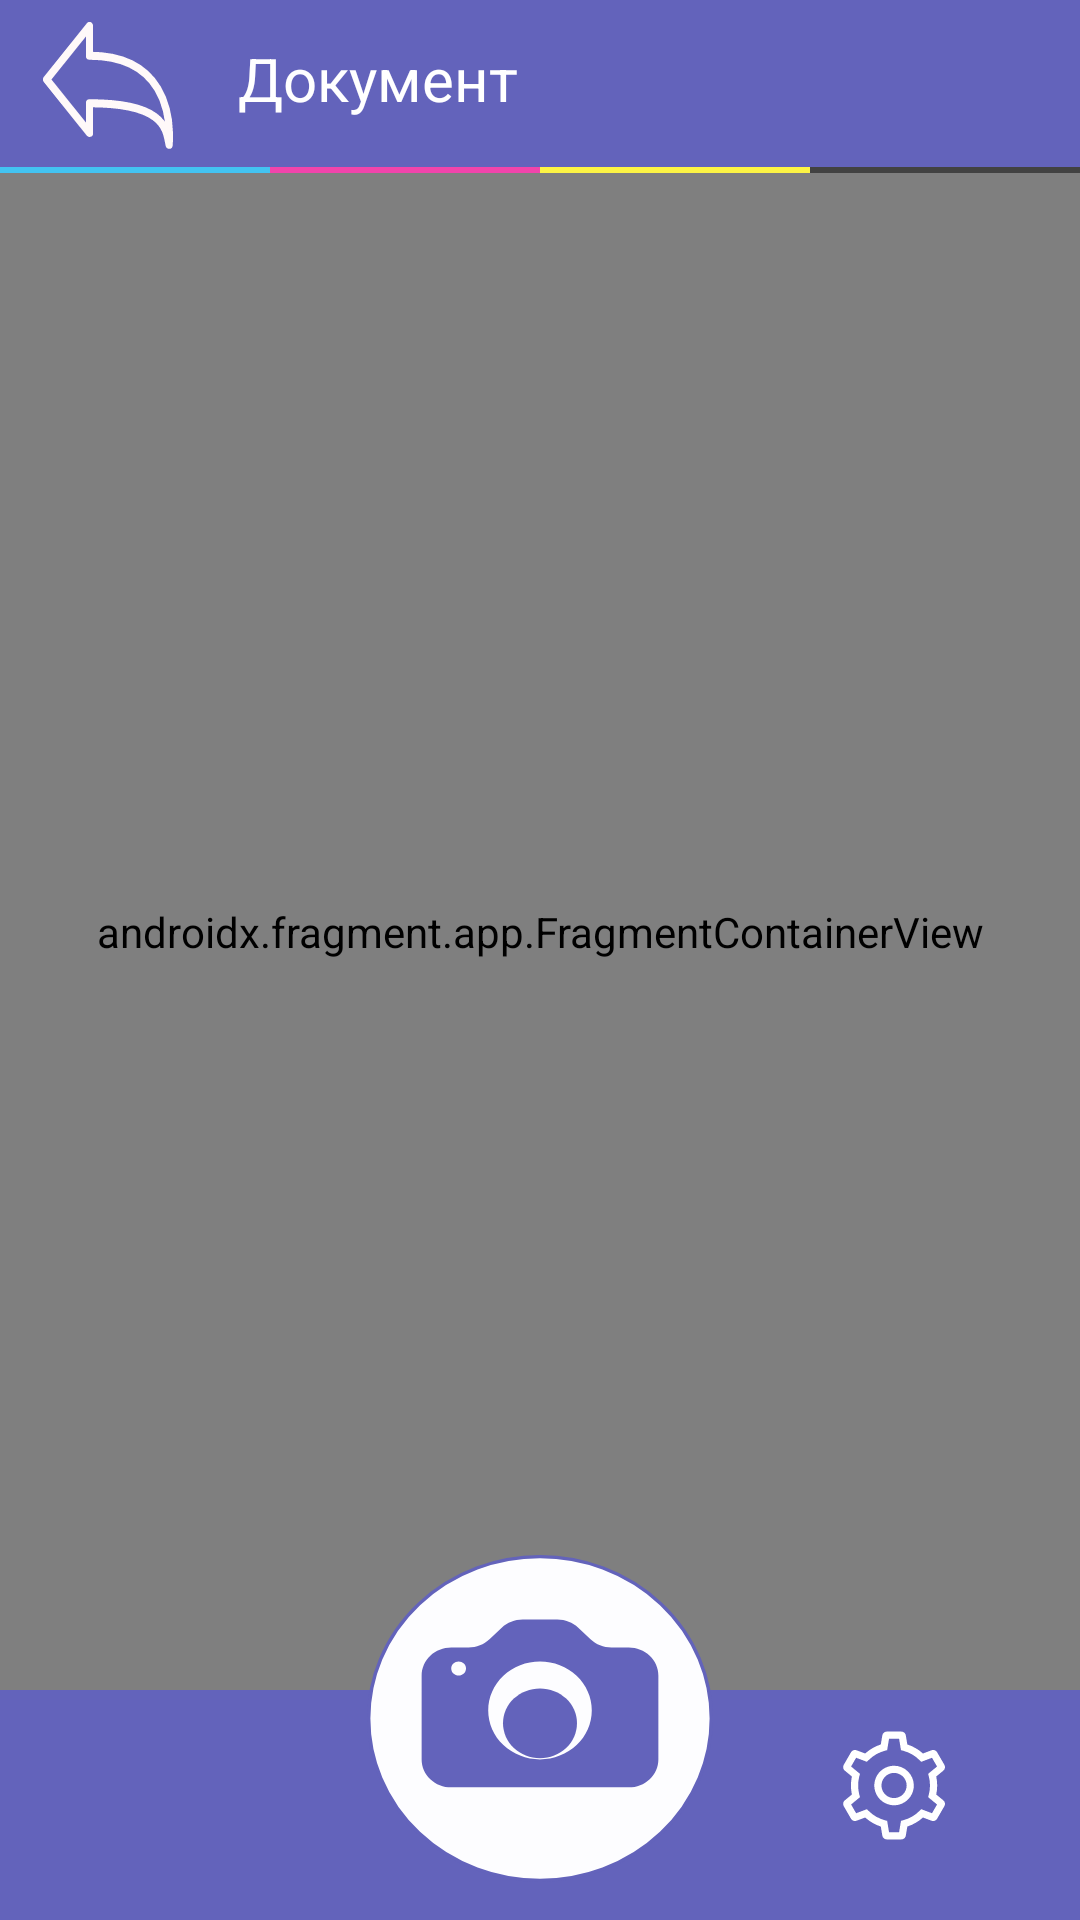

Named icons in this screenshot (1080×1920) and their bounding boxes, (x1, y1, x2, y2):
cil settings: (843, 1731, 945, 1840)
